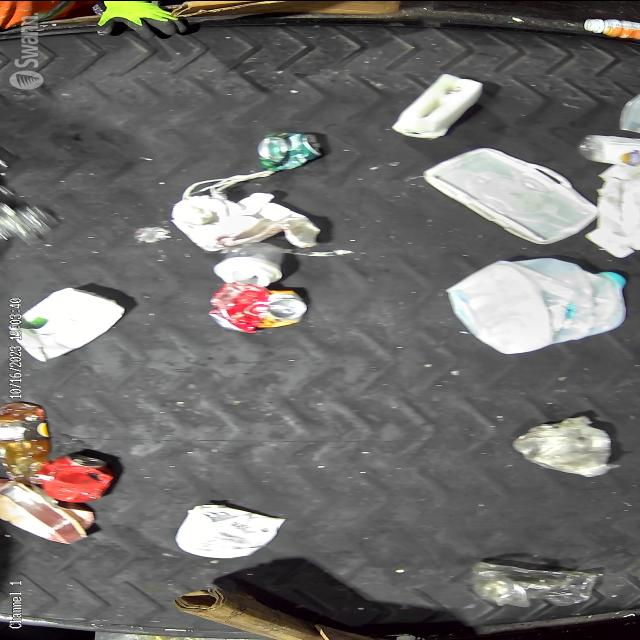can: (12, 285, 126, 361), (206, 284, 309, 332), (38, 451, 118, 502), (256, 131, 324, 171)
milk_jug: (443, 257, 630, 354)
